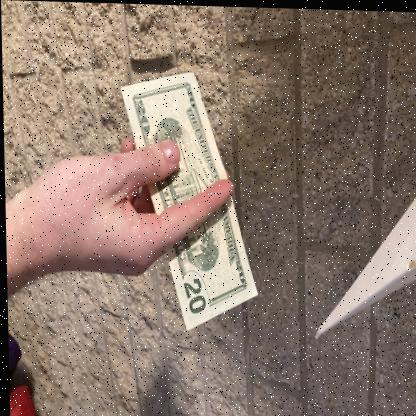twenty-back: (117, 69, 261, 331)
